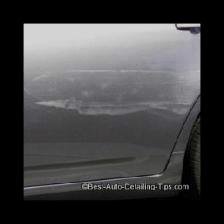door_scratch: (24, 65, 196, 137)
